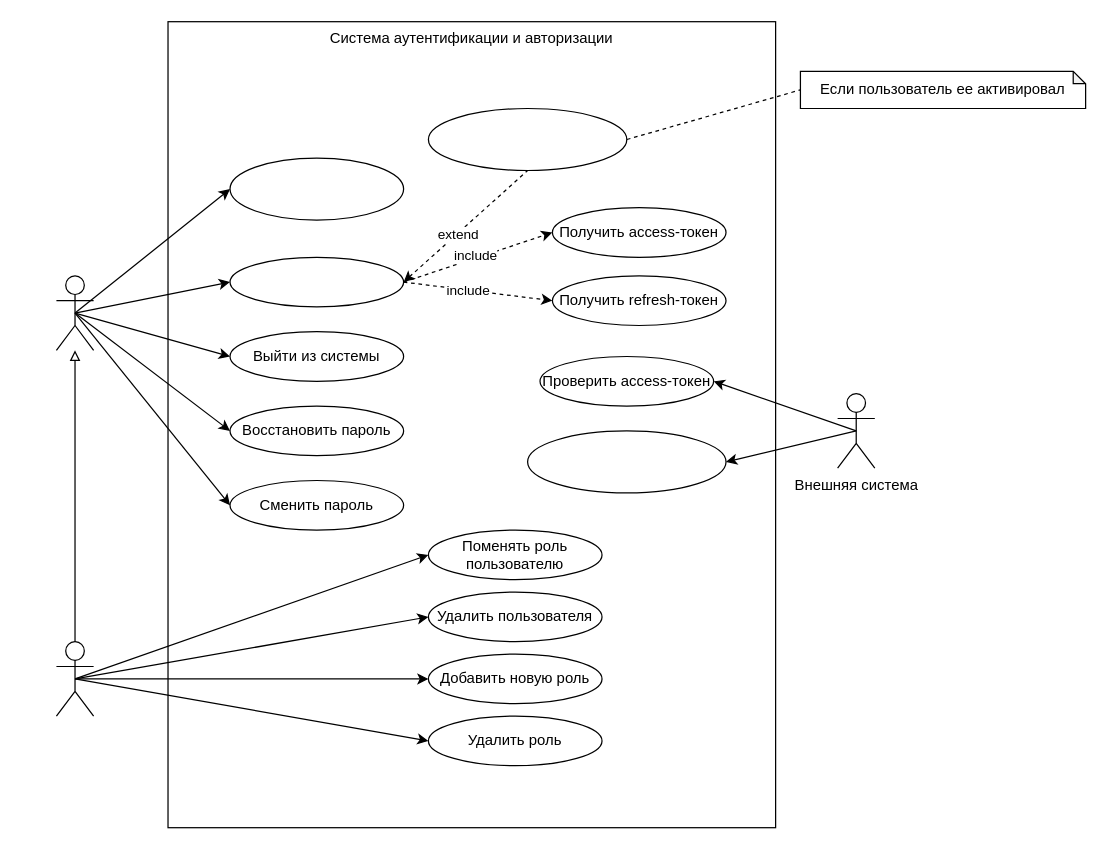
This 1107x849 diagram has some shape labels left out. Here are the shapes that lost their labels. From the top down, the centre of each, then its label:
[527,138]: Пройти двухфакторную аутентификацию
[316,188]: Зарегистрироваться в системе
[316,281]: Войти в систему
[74,312]: Пользователь
[626,461]: Обновить access-токен через refresh-токен
[74,678]: Администратор
